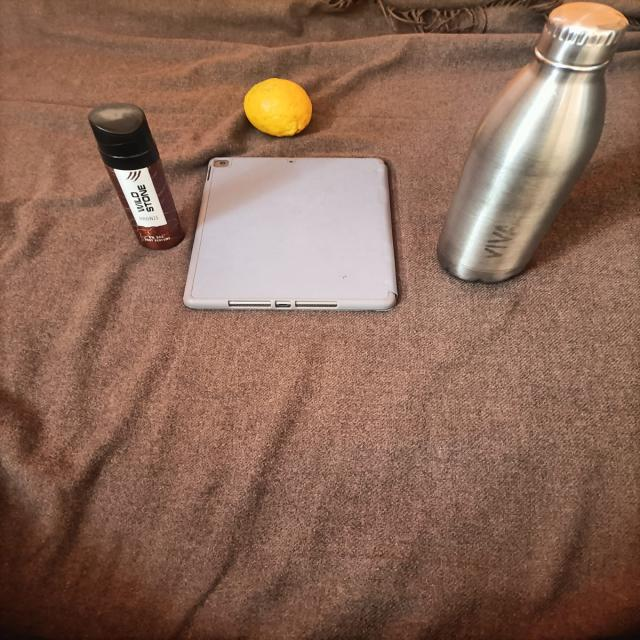bottle: (429, 4, 637, 314)
orange: (233, 70, 325, 140)
spray: (74, 98, 184, 264)
tablet: (183, 140, 410, 322)
